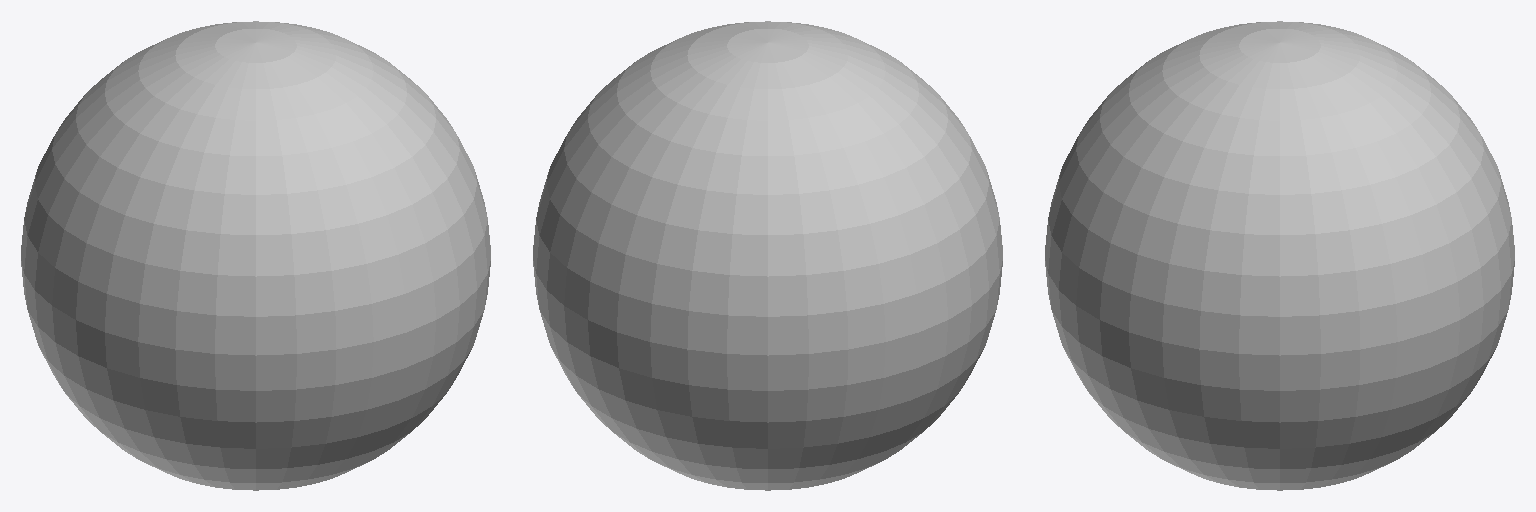
Rendered from minieuropa.obj.
3 views of the same model, side by side, from view 1: azimuth 30°, elevation 25°; view 2: azimuth 150°, elevation 25°; view 3: azimuth 270°, elevation 25° (orthographic).
Parts seen in each view (by area): view 1: Sphere_Sphere.003; view 2: Sphere_Sphere.003; view 3: Sphere_Sphere.003.
Part boxes in pixels (x1,y1,x2,y2): Sphere_Sphere.003: (21, 21, 490, 490); Sphere_Sphere.003: (533, 21, 1002, 490); Sphere_Sphere.003: (1045, 21, 1514, 490).
Size of the model in its own units: 936 by 936 by 936.